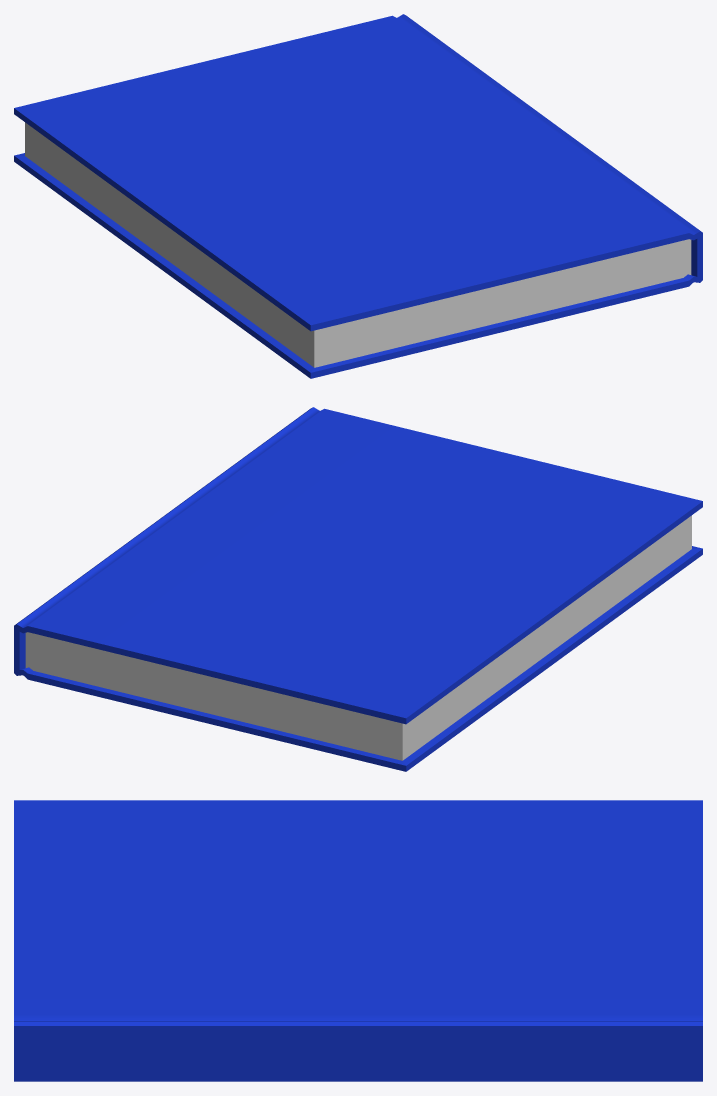
Rendered from BgMD_book (3).fbx.
The picture shows the model from 3 angles, top to bottom: view 1: azimuth 30°, elevation 25°; view 2: azimuth 150°, elevation 25°; view 3: azimuth 270°, elevation 25°; orthographic projection. The views are drawn at different scales.
Parts seen in each view (by area): view 1: Bg_Book; view 2: Bg_Book; view 3: Bg_Book.
Part boxes in pixels (x1=…): Bg_Book: x1=14, y1=14, x2=702, y2=378; Bg_Book: x1=14, y1=407, x2=702, y2=771; Bg_Book: x1=14, y1=800, x2=702, y2=1081.
Bounding box in the file's own units: 14.8 × 1.93 × 19.4.
Materials: 1 (1 with a texture image).
